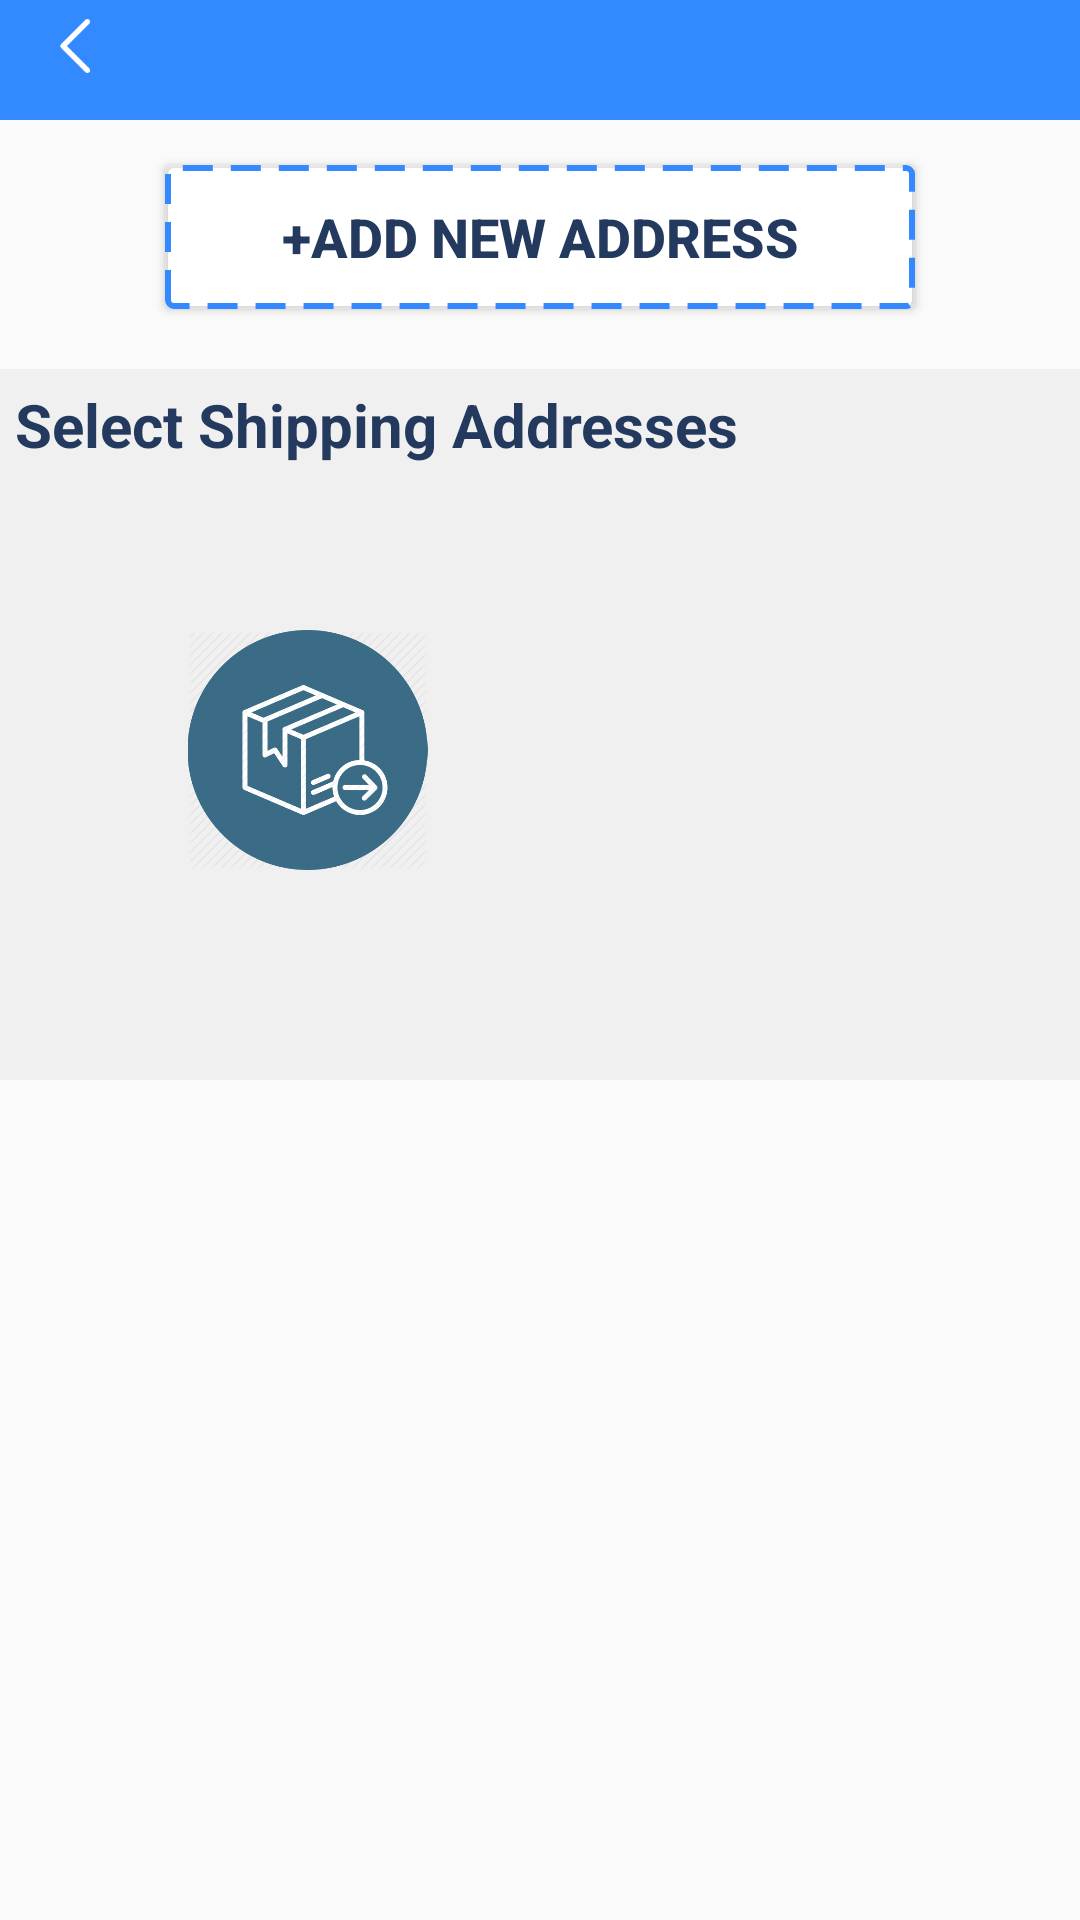

Named icons in this screenshot (1080px x 1920px) and their centers, (x=x, y=y):
back arrow: (x=75, y=46)
packaging: (x=308, y=750)
